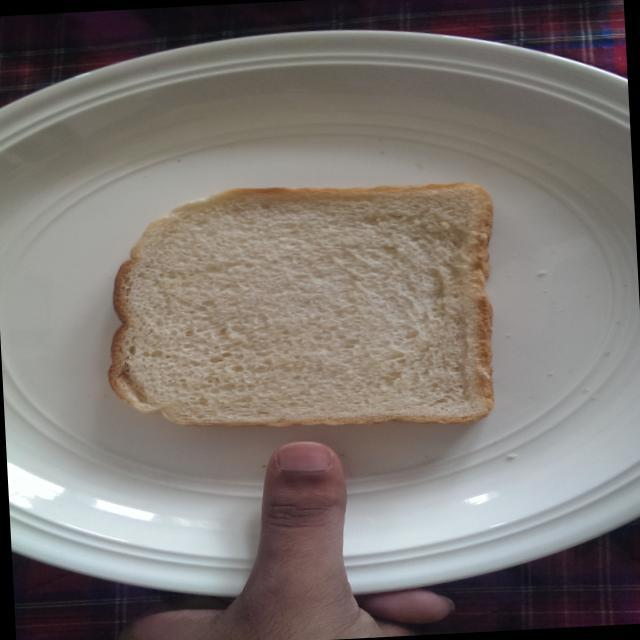Bread: (96, 162, 513, 448)
Finger: (242, 436, 362, 556)
